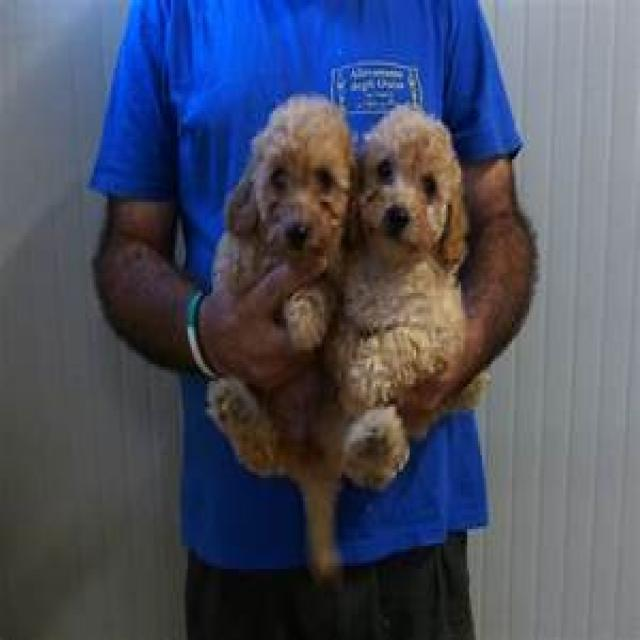dog: (342, 102, 517, 503), (201, 98, 356, 522)
